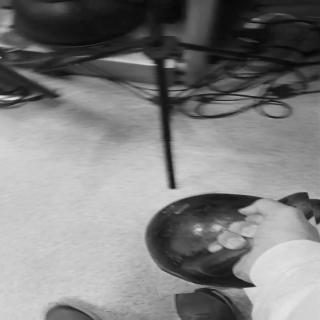kettlebell: (139, 188, 320, 293)
